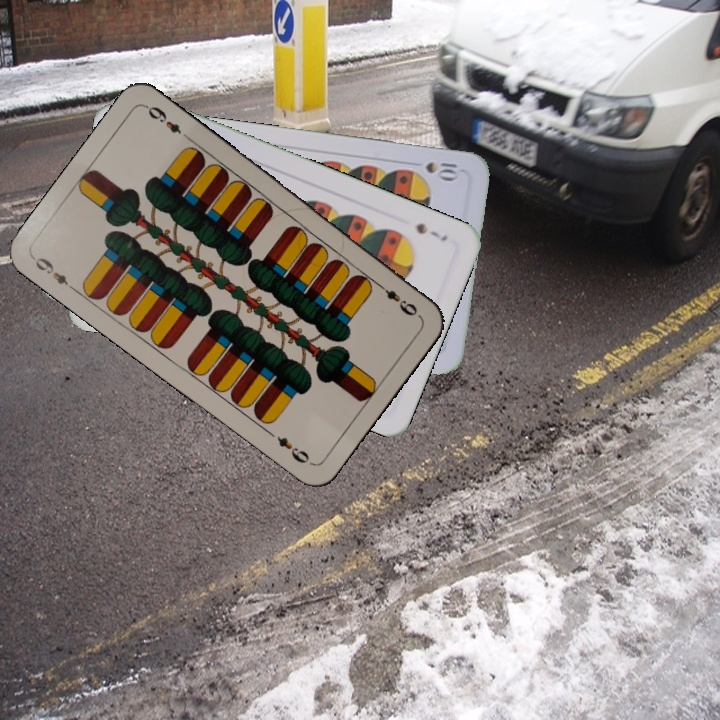E9: (372, 278, 422, 320), (29, 253, 79, 294)
S10: (421, 158, 462, 183)
S7: (412, 218, 450, 244)
